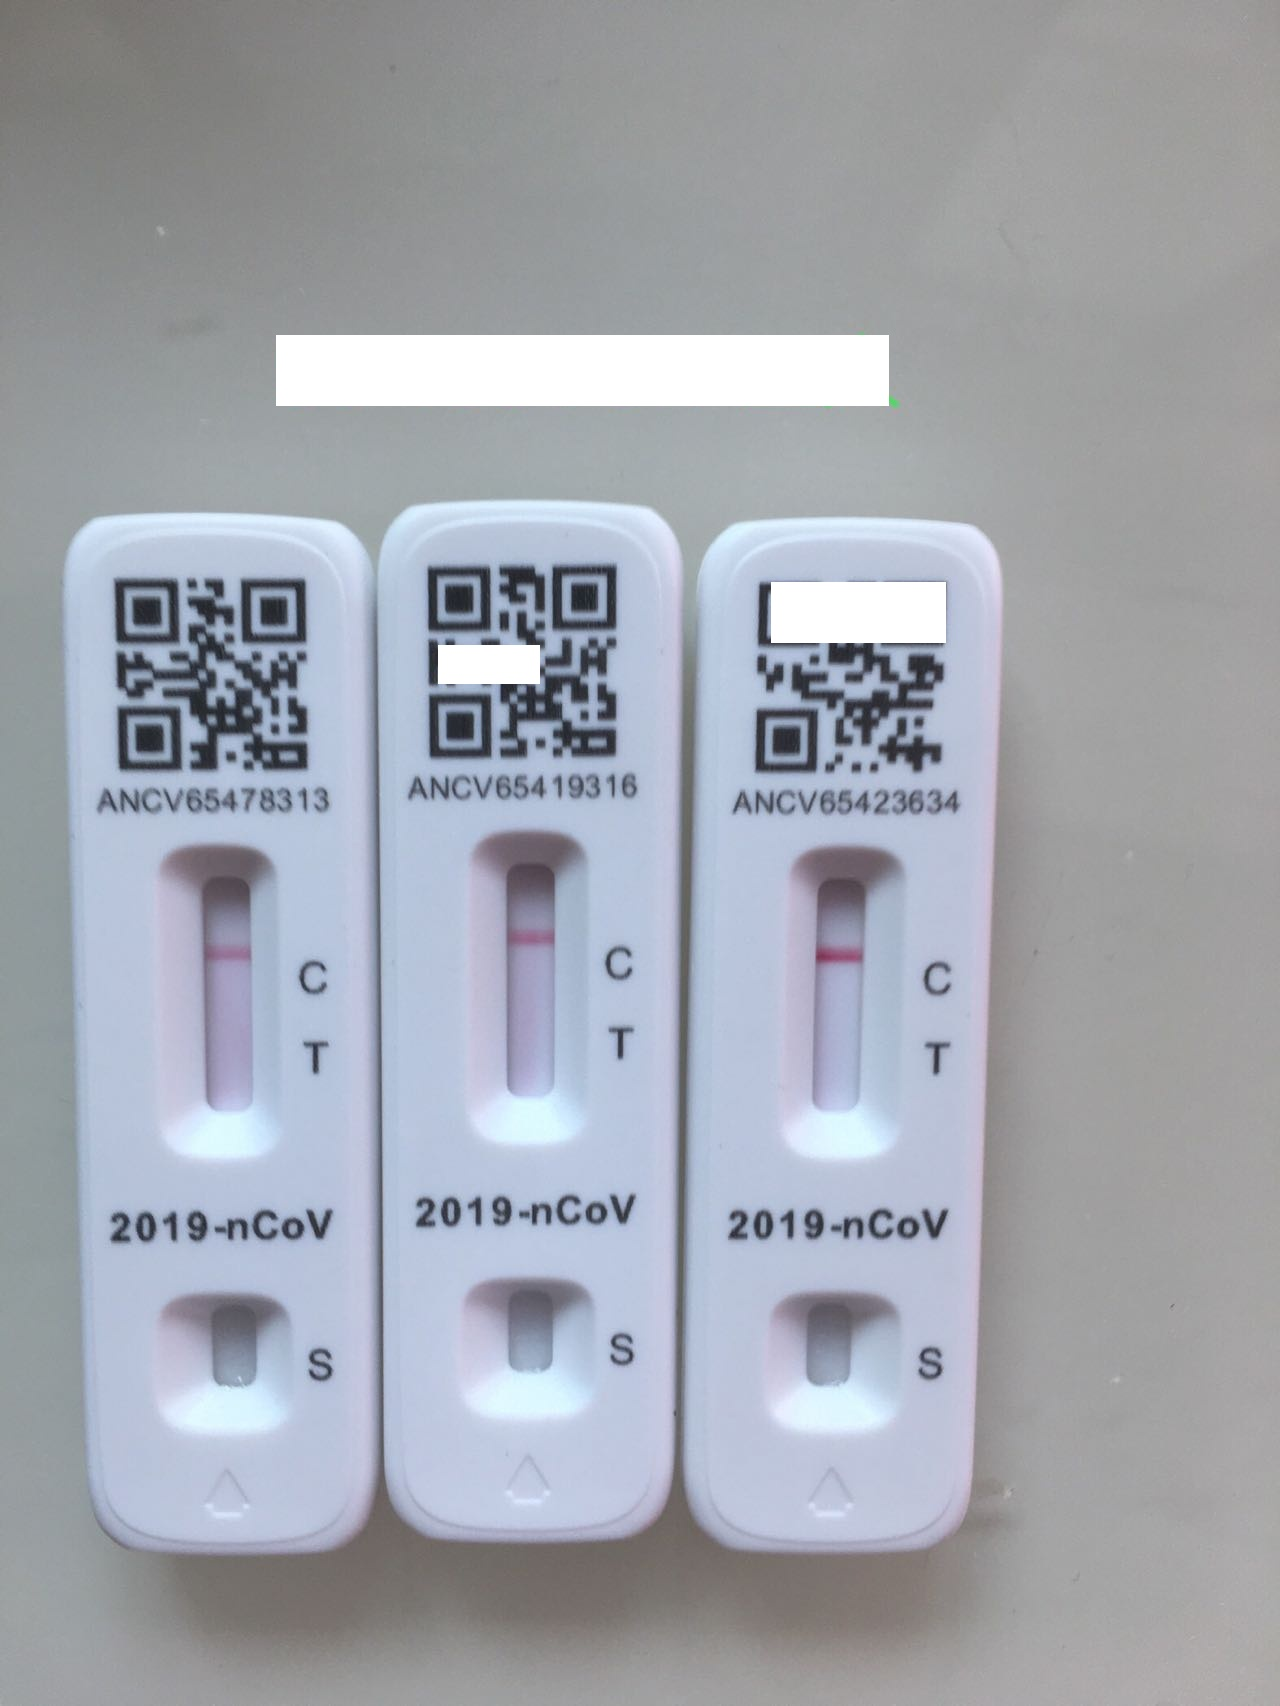negative: (155, 834, 277, 1155), (467, 834, 588, 1149), (781, 838, 899, 1159)
